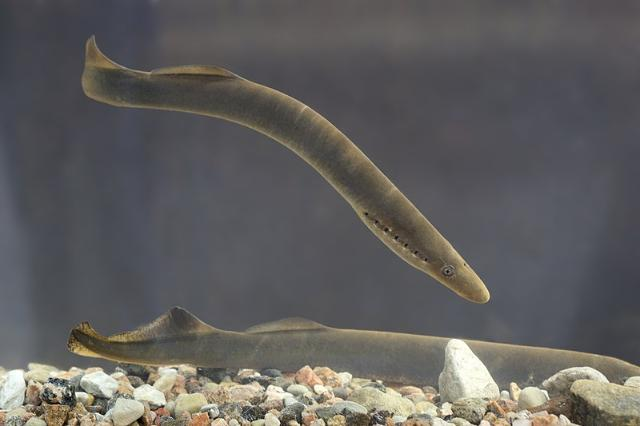Sirip Ekor: (52, 282, 158, 382)
